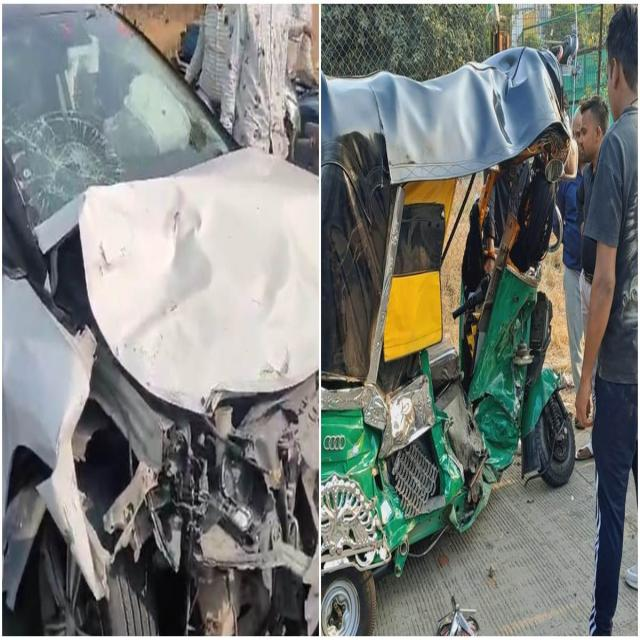accident: (1, 7, 319, 633), (320, 47, 575, 636)
